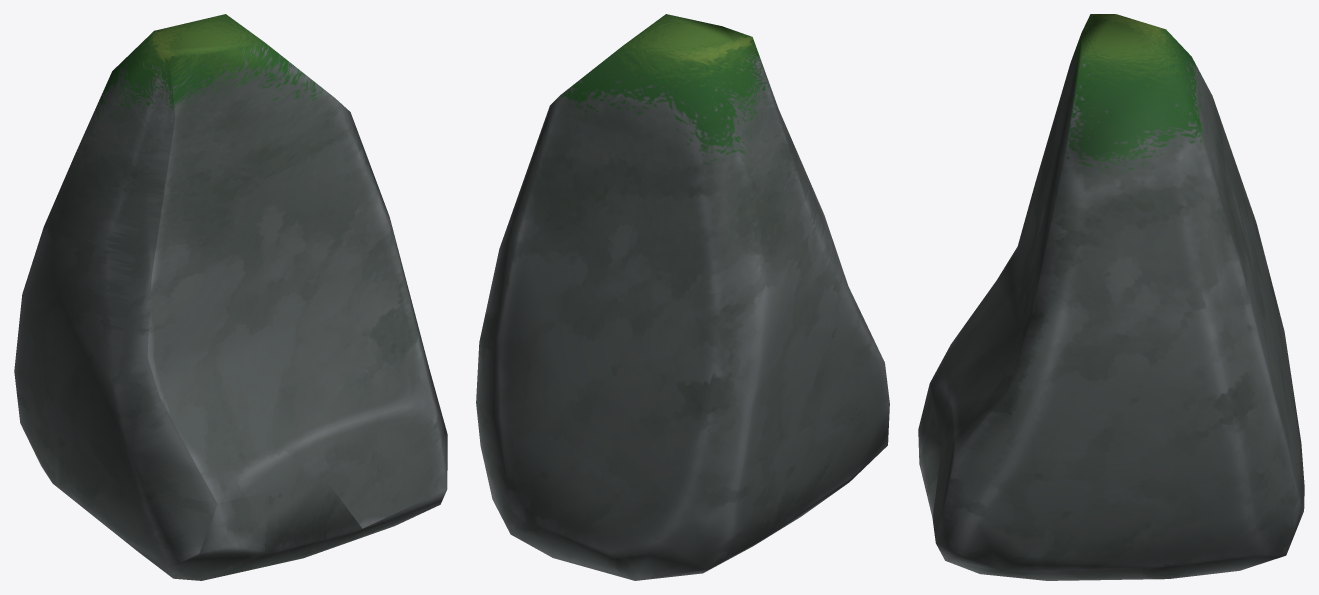
The model's file is Stone4_v1_moss.fbx.
3 renders of one model, left to right at view 1: azimuth 30°, elevation 25°; view 2: azimuth 150°, elevation 25°; view 3: azimuth 270°, elevation 25°, orthographic.
Parts seen in each view (by area): view 1: Stone4_v1_moss; view 2: Stone4_v1_moss; view 3: Stone4_v1_moss.
Part boxes in pixels (x1,y1,x2,y2): Stone4_v1_moss: (14,14,447,580); Stone4_v1_moss: (476,14,889,580); Stone4_v1_moss: (918,14,1304,580).
Size of the model in its own units: 134 by 200 by 144.
Materials: 1 (1 with a texture image).
